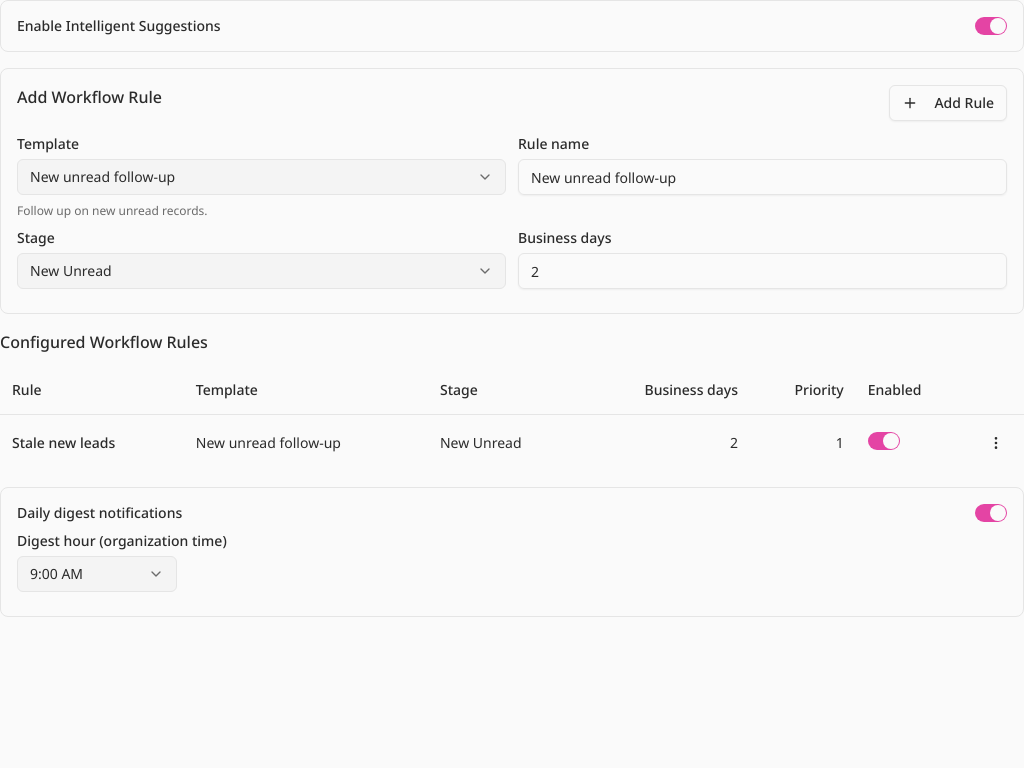
IntelligentSuggestionsSection › lists rules in a table and deletes through a confirm dialog
Expected: the row "Stale new leads" is shown, x1=0 y1=414 x2=1023 y2=471
Expected: the cell "New Unread" is shown, x1=428 y1=414 x2=580 y2=471
Click the button named "Actions for Stale new leads": x=996, y=443 x1=980 y1=427 x2=1012 y2=459
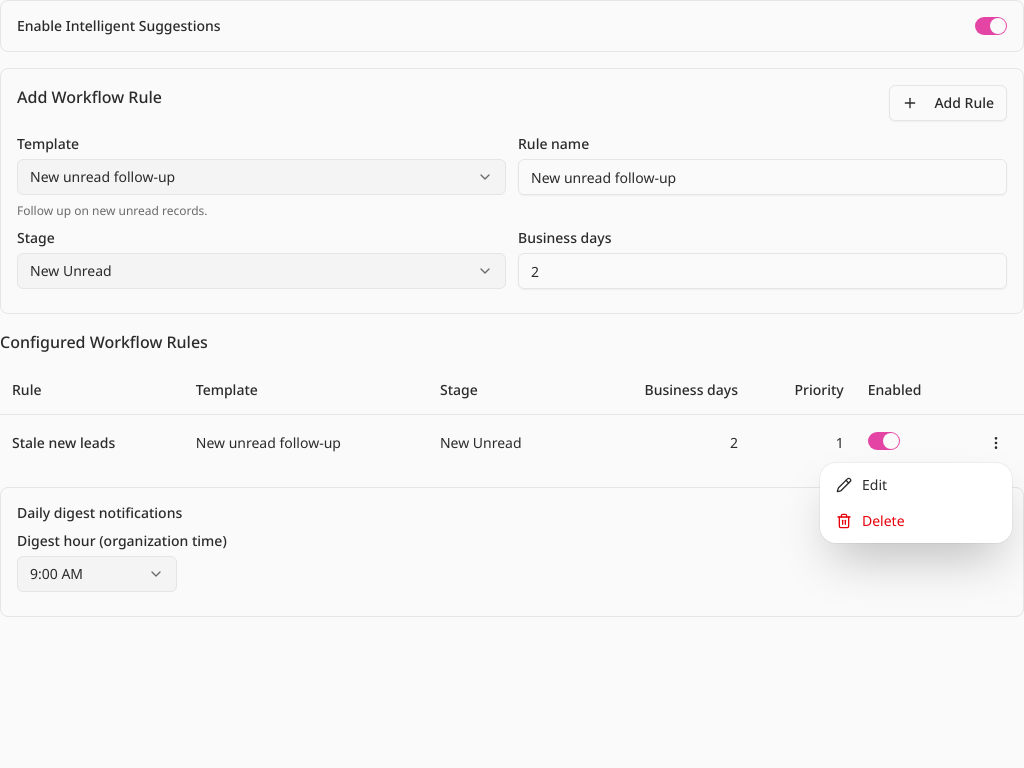
Click the menu item "Delete": x=870, y=520 x1=836 y1=511 x2=905 y2=530
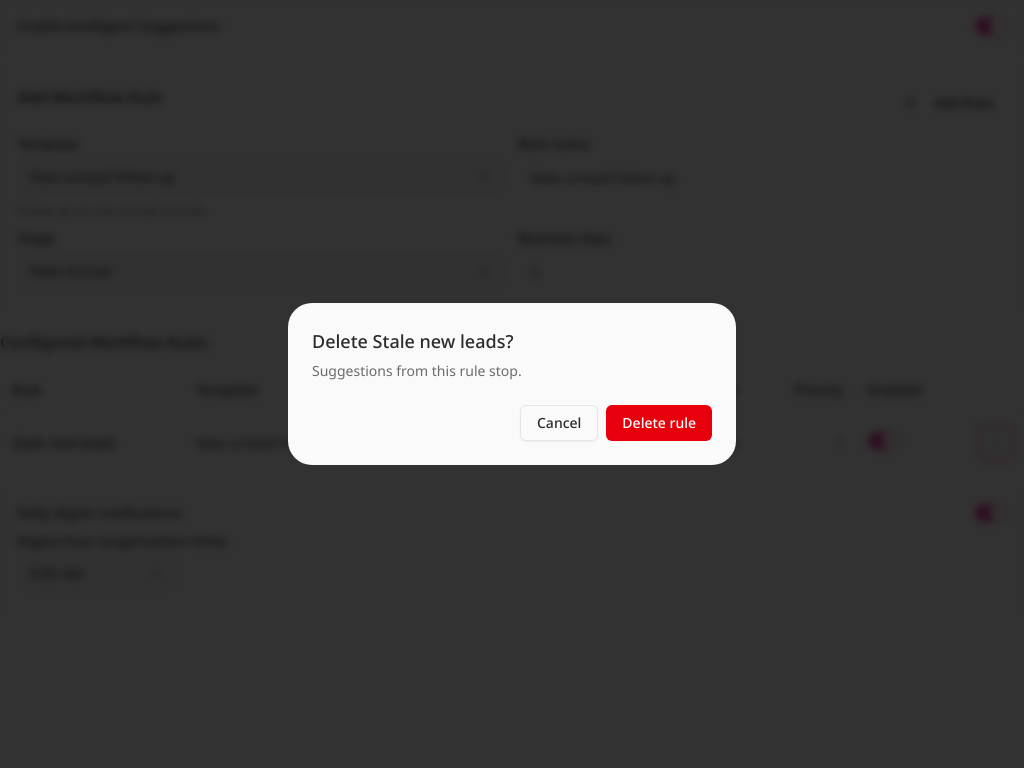
Now the heading "Delete Stale new leads?" is shown, box x1=312 y1=327 x2=514 y2=355
Click the button "Delete rule": x=659, y=423 x1=606 y1=405 x2=712 y2=441
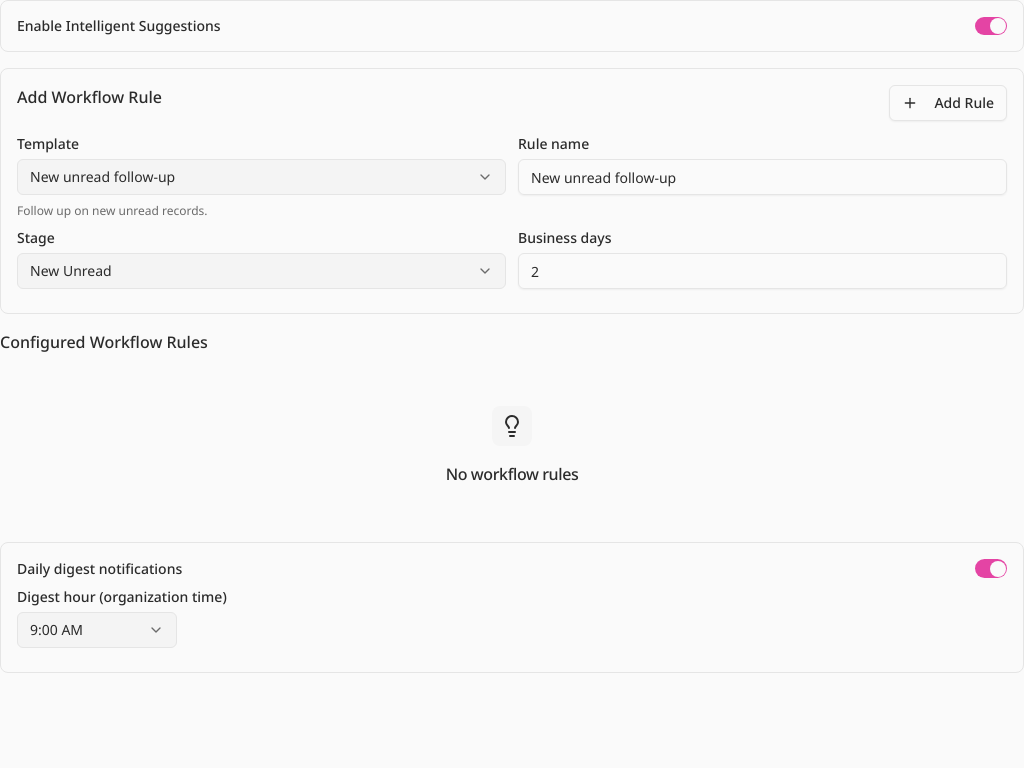
Now the cell "Stale new leads" is gone
